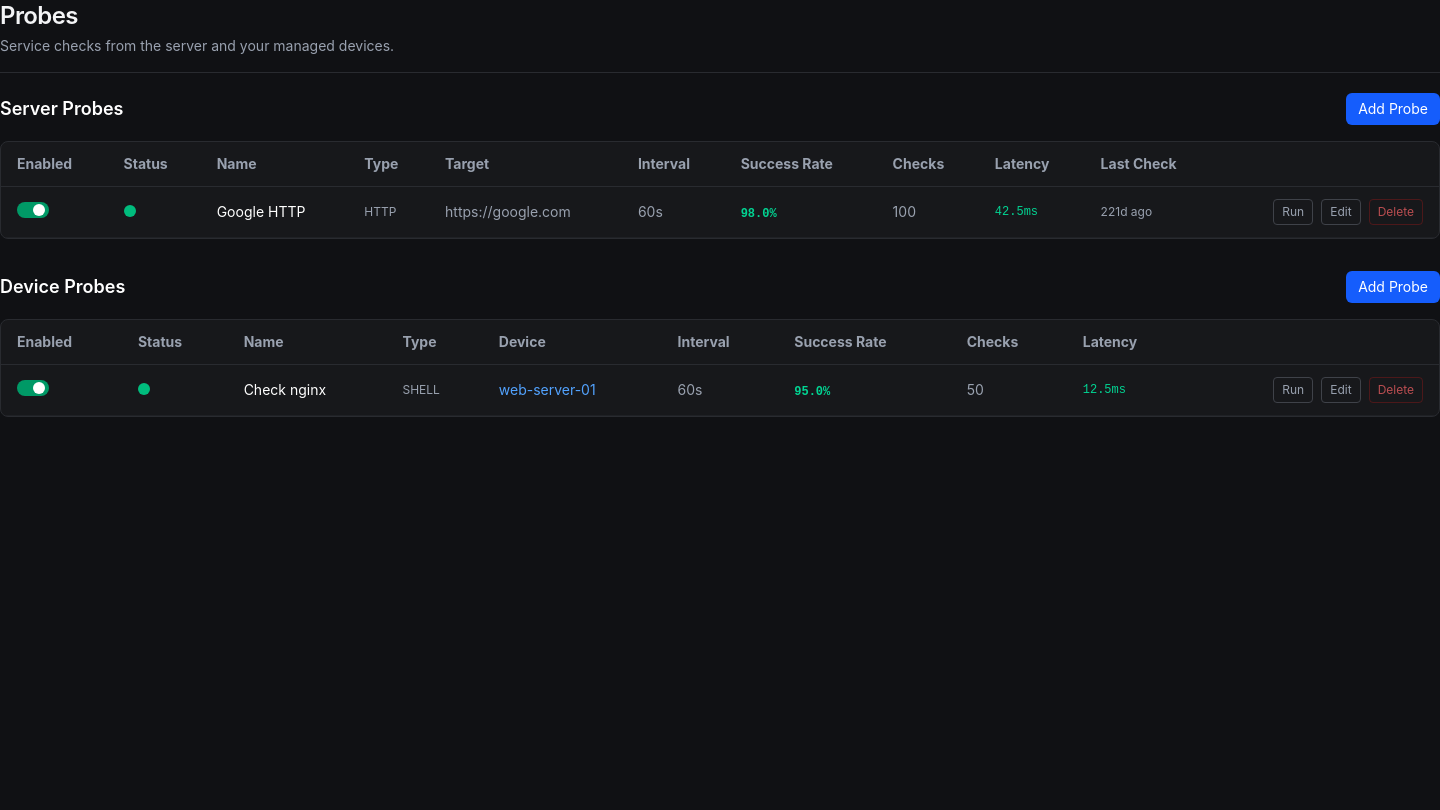
Test: [UIF AC-066] delete server probe confirms and toasts › opens a danger dialog naming the probe, then deletes once and raises a success toast on confirm
Expected: the link "Google HTTP" is shown, [217,203,305,220]
Click the button "Delete" in the row of "Google HTTP".
click(1396, 212)  # box [1369,199,1423,225]
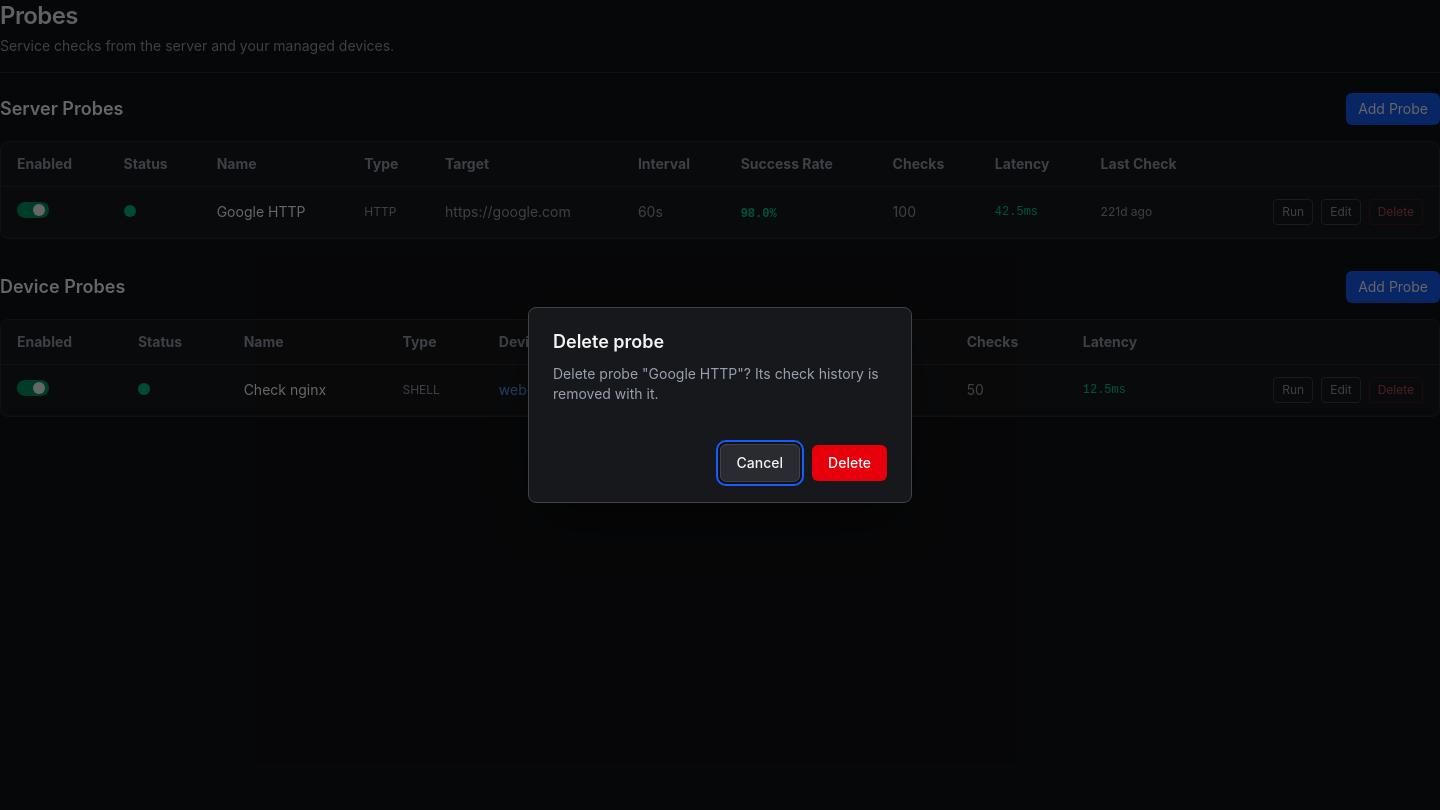
Expected: the dialog "Delete probe" shows "\"Google HTTP\"", [553,365,879,402]
Click the button "Delete".
click(850, 463)  # box [812,445,887,481]
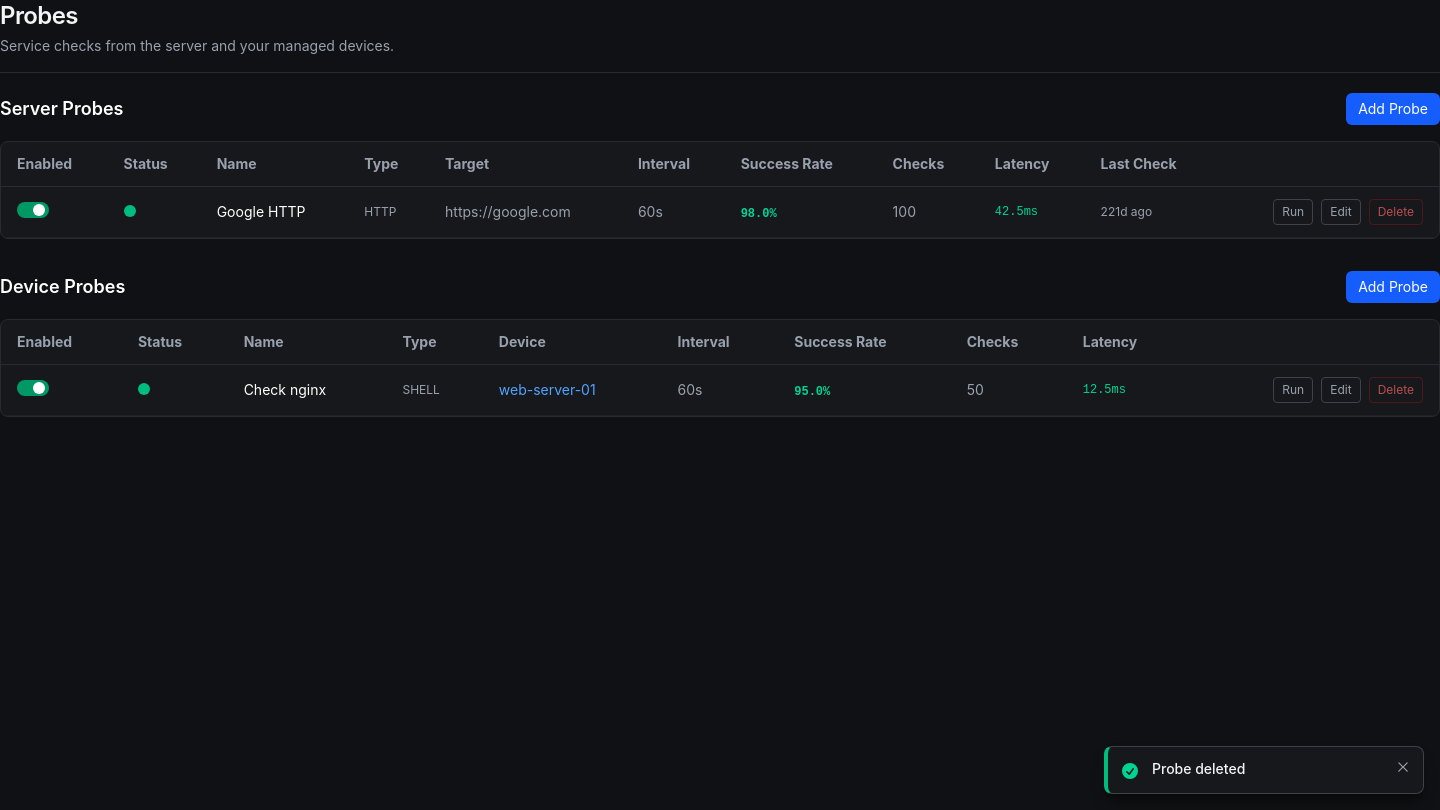
Expected: the text "Probe deleted" is shown, [1152,760,1245,777]
Expected: the dialog is gone
